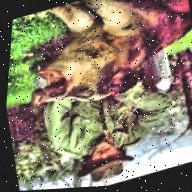boar: (14, 0, 192, 126)
